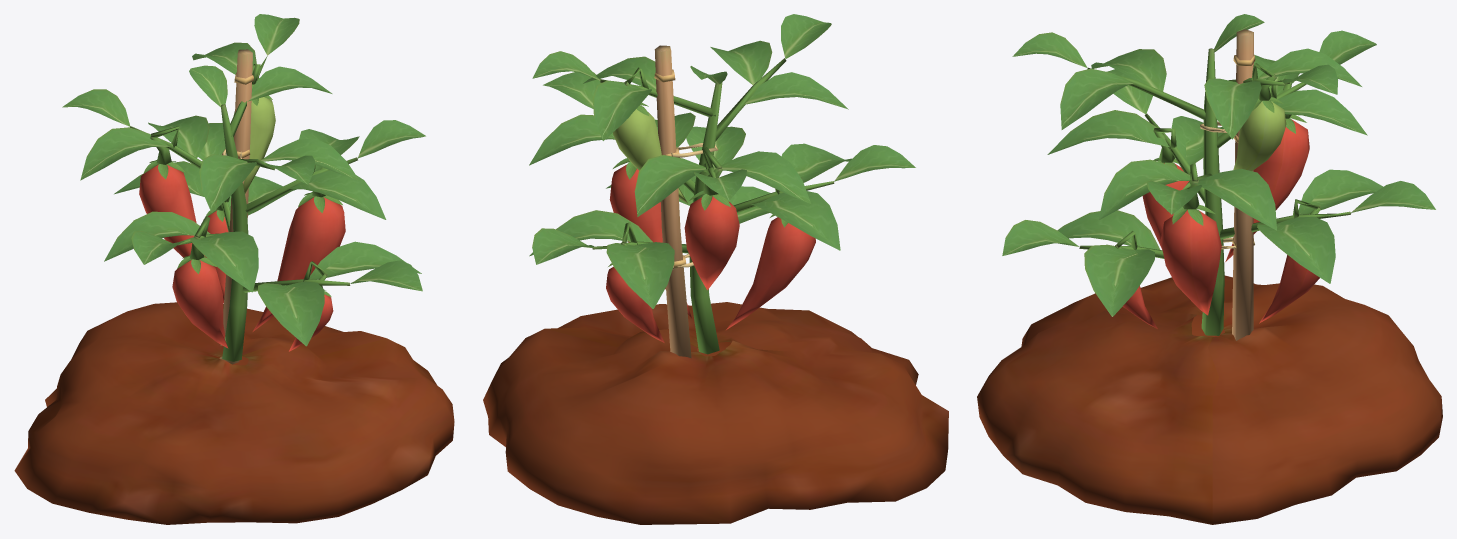
The picture shows the model from 3 angles, left to right: view 1: azimuth 30°, elevation 25°; view 2: azimuth 150°, elevation 25°; view 3: azimuth 270°, elevation 25°; orthographic projection. The views are drawn at different scales.
Visible parts, largest first — view 1: pepper-ready; view 2: pepper-ready; view 3: pepper-ready.
Part boxes in pixels (x1=…): pepper-ready: x1=14, y1=14, x2=454, y2=524; pepper-ready: x1=483, y1=14, x2=948, y2=524; pepper-ready: x1=977, y1=14, x2=1442, y2=524.
Size of the model in its own units: 0.7926 by 0.69 by 0.7248.
Materials: 1 (1 with a texture image).
